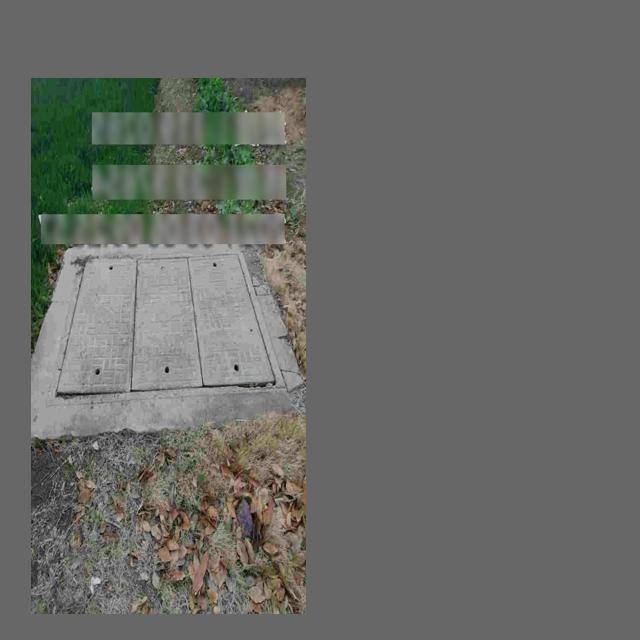good: (49, 247, 289, 403)
